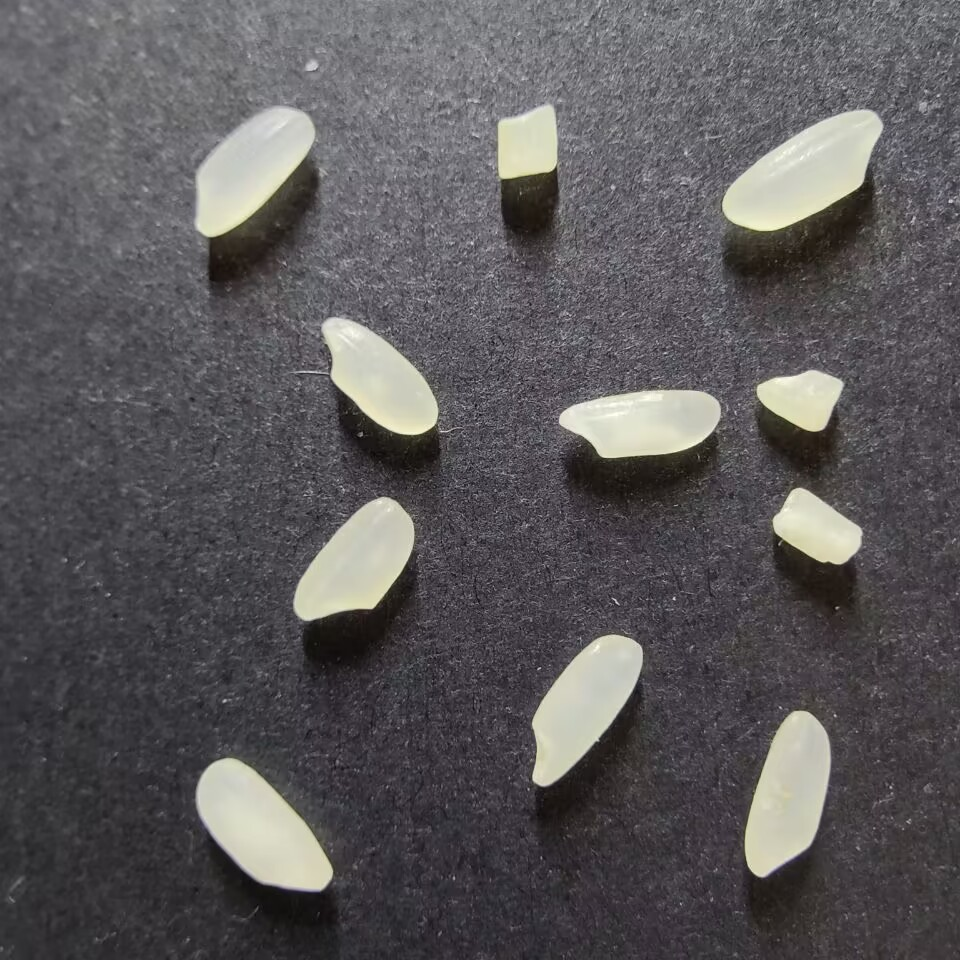broken: (771, 487, 863, 565), (755, 369, 843, 433), (496, 104, 558, 180)
rice: (721, 108, 884, 232), (196, 756, 333, 892), (530, 633, 643, 788), (194, 106, 315, 237), (292, 496, 415, 622), (743, 709, 831, 877), (320, 316, 438, 436), (558, 388, 721, 458)
